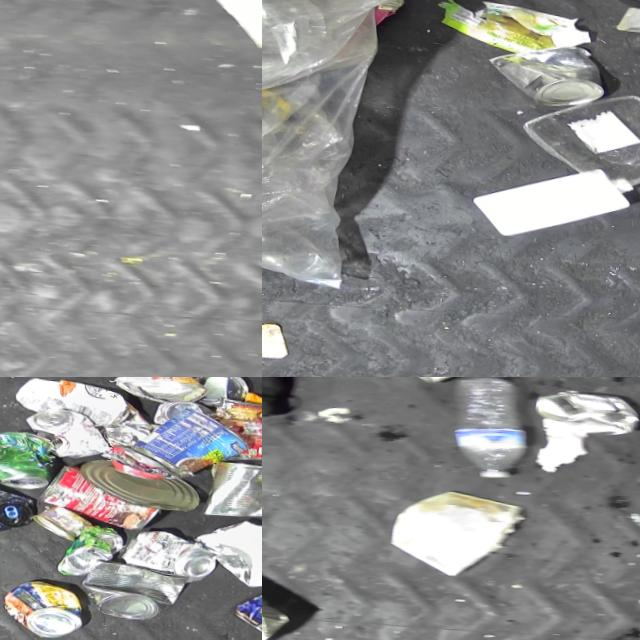can: (130, 396, 253, 475), (41, 454, 164, 525), (486, 33, 604, 103), (82, 548, 193, 615), (82, 449, 202, 505), (122, 519, 219, 576), (4, 572, 86, 633), (25, 400, 113, 454), (201, 448, 262, 509), (58, 517, 126, 571), (0, 425, 57, 485), (216, 387, 262, 455), (262, 576, 302, 640), (34, 497, 95, 536), (0, 469, 35, 529), (113, 377, 209, 397), (153, 391, 215, 419), (232, 566, 262, 623), (197, 377, 251, 399)
milk_jug: (473, 151, 640, 238)
plastic_bottle: (448, 377, 536, 479)
